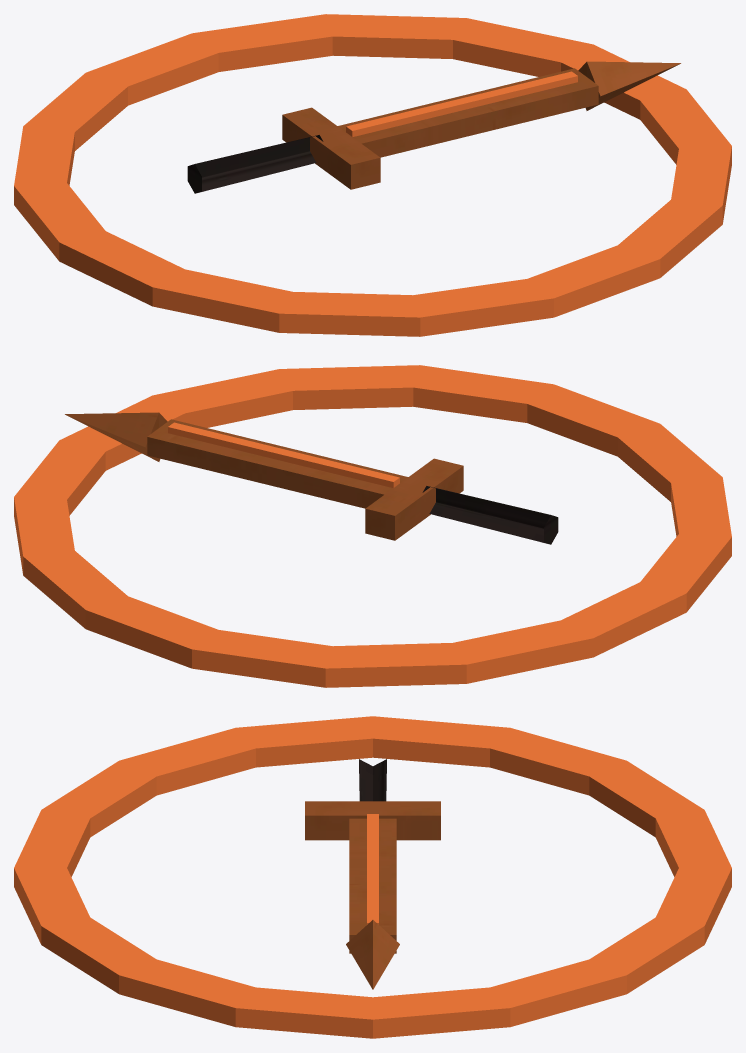
Rendered from loot_dagger_g4.glb.
The picture shows the model from 3 angles, top to bottom: view 1: azimuth 30°, elevation 25°; view 2: azimuth 150°, elevation 25°; view 3: azimuth 270°, elevation 25°; orthographic projection.
Visible parts, largest first — view 1: loot_dagger_g4; view 2: loot_dagger_g4; view 3: loot_dagger_g4.
Part boxes in pixels (x1,y1,x2,y2): loot_dagger_g4: (14,14,731,336); loot_dagger_g4: (14,365,731,687); loot_dagger_g4: (14,716,731,1038).
Bounding box in the file's own units: 1.06 × 0.115 × 1.06.
3 materials, 2 textured.
